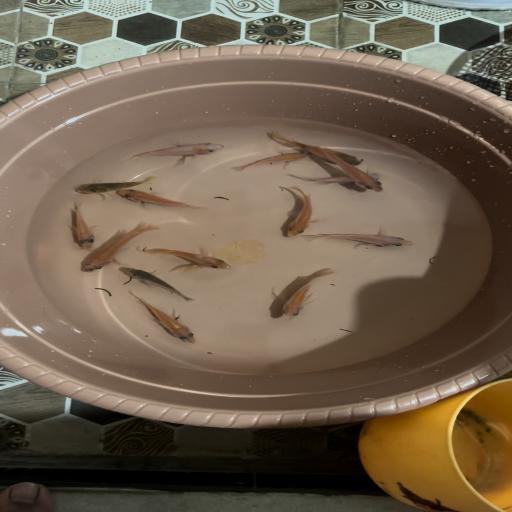nila: (119, 293, 208, 352), (78, 221, 162, 280), (115, 136, 246, 166), (271, 269, 342, 323), (260, 131, 364, 166), (320, 149, 394, 198), (306, 228, 424, 255), (142, 243, 234, 277), (108, 187, 212, 215), (272, 187, 326, 240), (124, 268, 192, 306), (70, 168, 156, 198), (228, 151, 317, 179), (293, 171, 386, 190), (64, 204, 98, 252)
